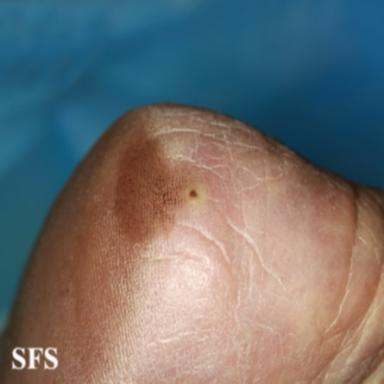Tungiasis: (185, 182, 208, 205)
